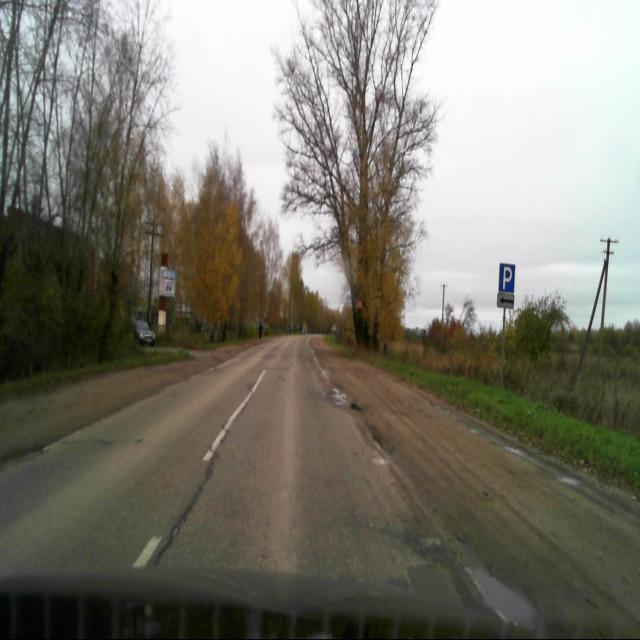road sign: (498, 263, 514, 292), (496, 293, 514, 308)
